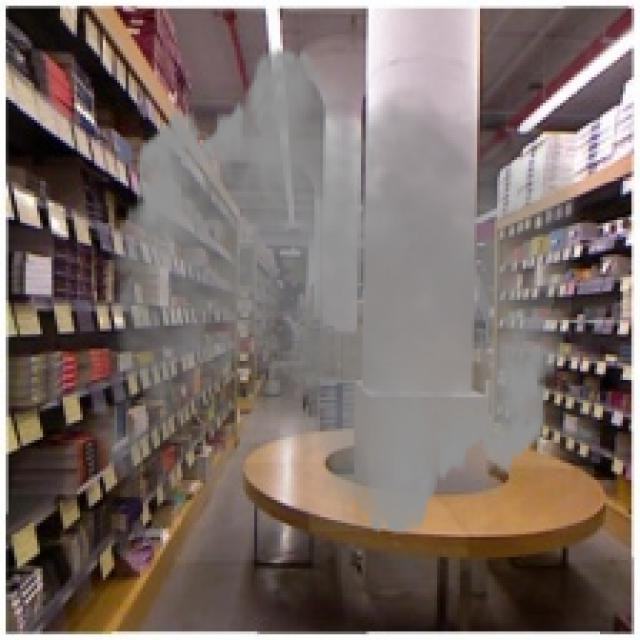smoke: (75, 31, 594, 552)
